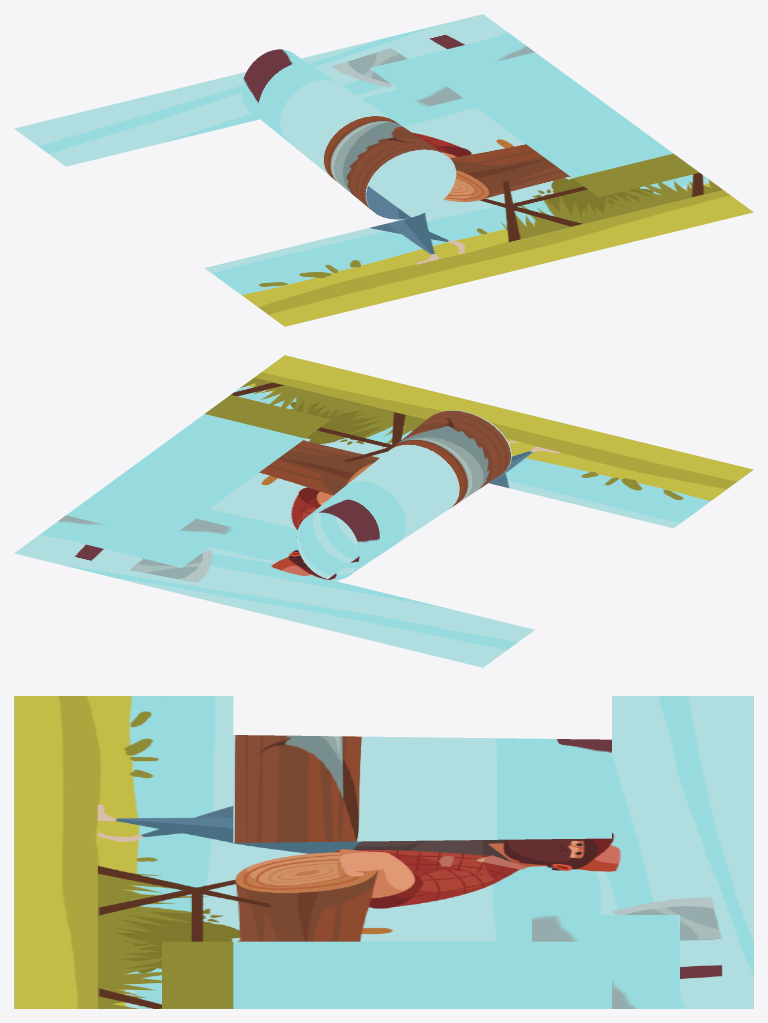
Rendered from Level 92.fbx.
The picture shows the model from 3 angles, top to bottom: view 1: azimuth 30°, elevation 25°; view 2: azimuth 150°, elevation 25°; view 3: azimuth 270°, elevation 25°; orthographic projection. The views are drawn at different scales.
Visible parts, largest first — view 1: background, lighthouse; view 2: background, lighthouse; view 3: background, lighthouse.
Boxes of the visible parts, x1,y1,x2,y2 form: background: [14, 14, 753, 326]; lighthouse: [241, 49, 456, 220]; background: [14, 355, 753, 667]; lighthouse: [296, 410, 511, 581]; background: [14, 696, 753, 1008]; lighthouse: [233, 735, 611, 842].
Size of the model in its own units: 2400 by 324 by 2400.
